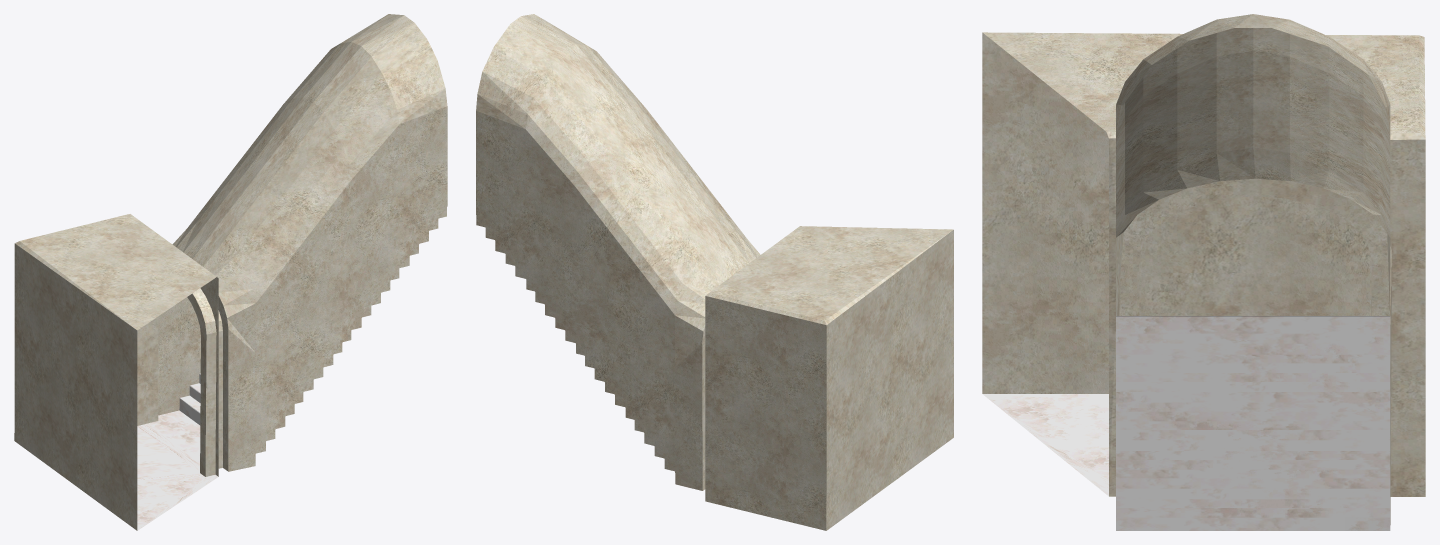
File: ply_tato_assoc_hall_civ_s02_r9_stair3_mesh_r9.fbx
The picture shows the model from 3 angles, left to right: view 1: azimuth 30°, elevation 25°; view 2: azimuth 150°, elevation 25°; view 3: azimuth 270°, elevation 25°; orthographic projection. The views are drawn at different scales.
Parts seen in each view (by area): view 1: mesh_node; view 2: mesh_node; view 3: mesh_node.
Part boxes in pixels (x1=…): mesh_node: x1=14, y1=14, x2=447, y2=530; mesh_node: x1=476, y1=14, x2=953, y2=530; mesh_node: x1=982, y1=14, x2=1425, y2=530.
Size of the model in its own units: 7.25 by 7.43 by 4.44.
